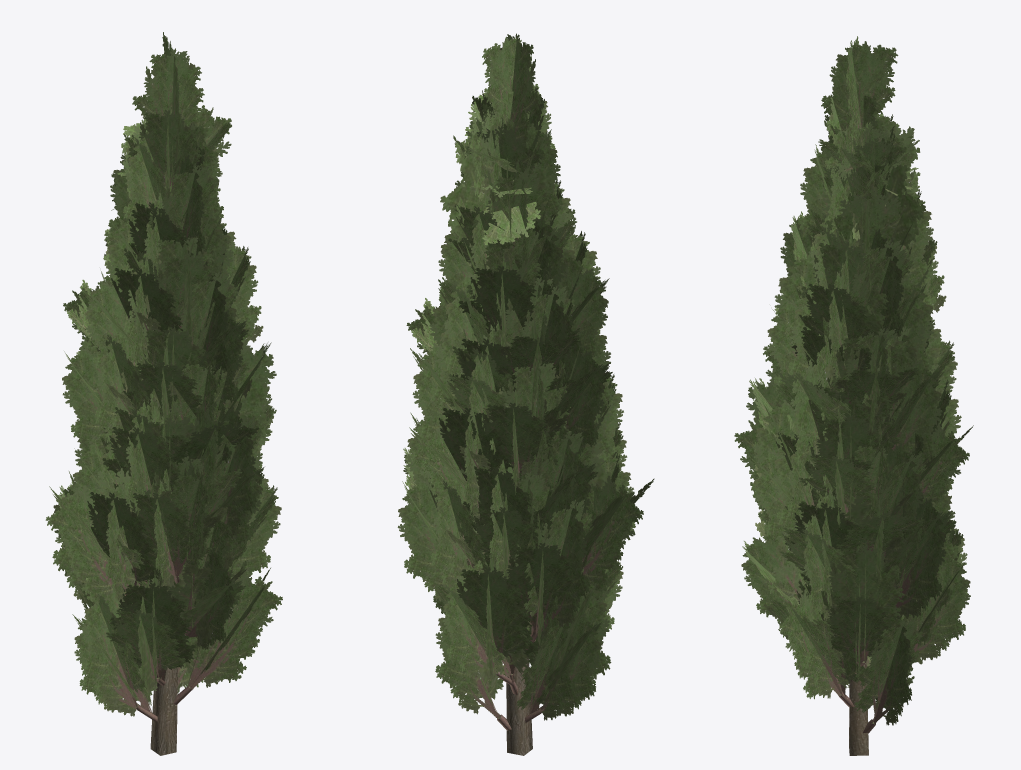
File: CupressusLeylandii.glb
The picture shows the model from 3 angles, left to right: view 1: azimuth 30°, elevation 25°; view 2: azimuth 150°, elevation 25°; view 3: azimuth 270°, elevation 25°; orthographic projection.
Parts seen in each view (by area): view 1: Leyland_Cypress__Realistic_LOD3; view 2: Leyland_Cypress__Realistic_LOD3; view 3: Leyland_Cypress__Realistic_LOD3.
Boxes of the visible parts, bbox=[...] form: Leyland_Cypress__Realistic_LOD3: bbox=[45, 32, 282, 755]; Leyland_Cypress__Realistic_LOD3: bbox=[397, 33, 654, 755]; Leyland_Cypress__Realistic_LOD3: bbox=[734, 36, 973, 755].
Size of the model in its own units: 3.03 by 7.37 by 2.83.
1 material, 1 textured.
